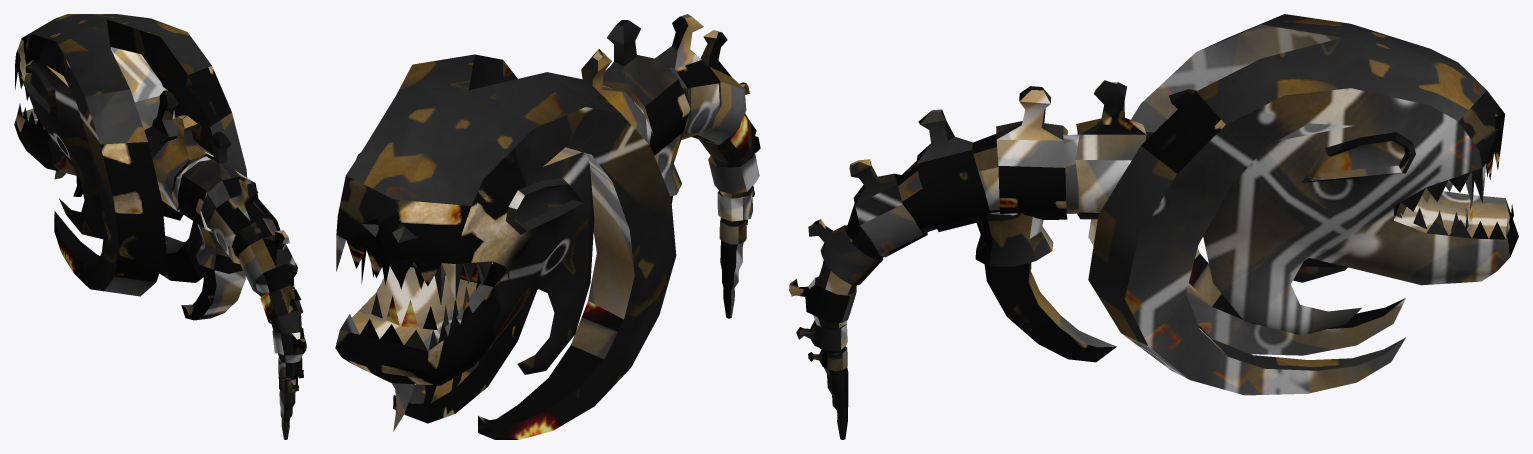
Rendered from iron_hell_goat.gltf.
3 views of the same model, side by side, from view 1: azimuth 30°, elevation 25°; view 2: azimuth 150°, elevation 25°; view 3: azimuth 270°, elevation 25° (orthographic). The views are drawn at different scales.
Visible parts, largest first — view 1: iron_hell_goat; view 2: iron_hell_goat; view 3: iron_hell_goat.
Boxes of the visible parts, bbox=[...] form: iron_hell_goat: bbox=[14, 14, 306, 439]; iron_hell_goat: bbox=[335, 14, 760, 439]; iron_hell_goat: bbox=[789, 14, 1518, 439].
Size of the model in its own units: 0.485 by 0.9816 by 1.62.
1 material, 1 textured.
